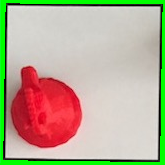Red Knight: (8, 61, 88, 149)
